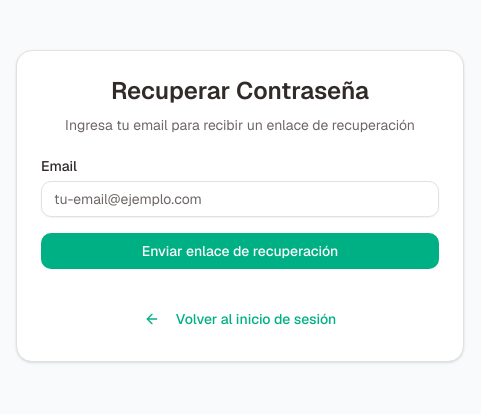
Test case: ResetPasswordPage › should validate email format
Try with invalid email (passes HTML5 validation but fails our regex)
Type "test@test" into the field labelled "Email" at (240, 199), box [41,181,439,217]
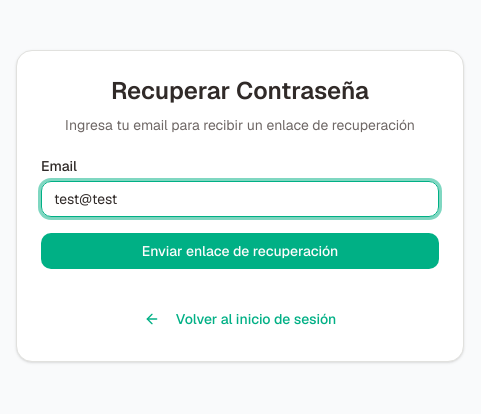
Click the button "Enviar enlace de recuperación" at (240, 251), box [41,233,439,269]
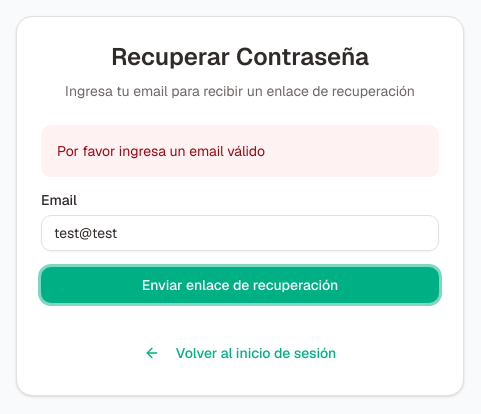
Result: the text "Por favor ingresa un email válido" is shown at [57,142,265,160]
